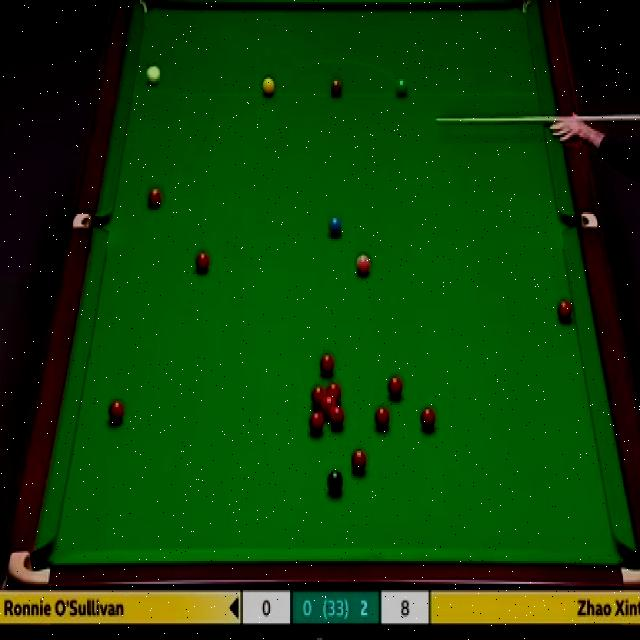black-ball: (327, 467, 344, 496)
blue-ball: (327, 214, 342, 238)
brown-ball: (330, 77, 342, 97)
green-ball: (394, 76, 408, 98)
pink-ball: (353, 254, 373, 282)
red-ball: (556, 298, 575, 327), (349, 447, 369, 474), (386, 374, 404, 400), (373, 406, 390, 432), (107, 399, 124, 424), (194, 252, 212, 275), (420, 408, 436, 432), (148, 186, 162, 211), (329, 407, 344, 430), (320, 354, 335, 377), (325, 382, 342, 402), (310, 388, 326, 409), (309, 412, 324, 434), (322, 397, 336, 415)
white-ball: (144, 63, 162, 90)
yellow-ball: (262, 78, 275, 98)
